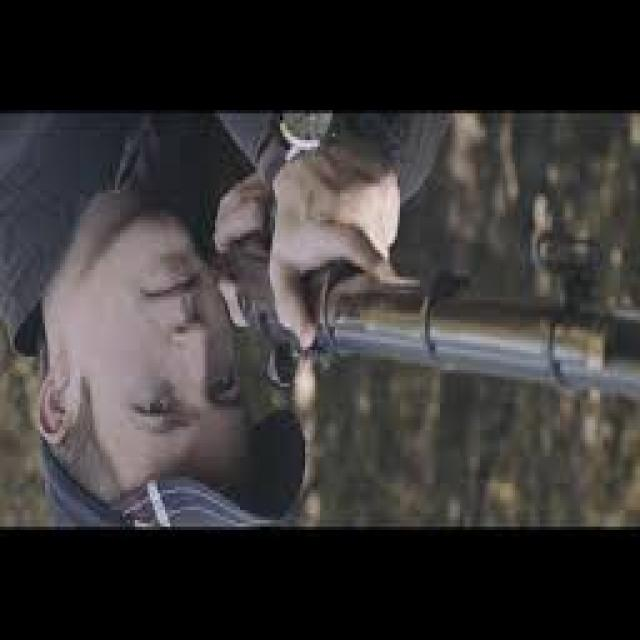gun: (215, 157, 640, 453)
